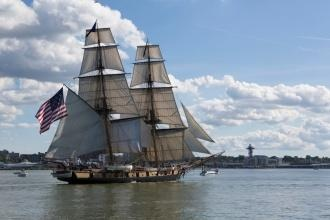fanchuan: (35, 17, 213, 186)
